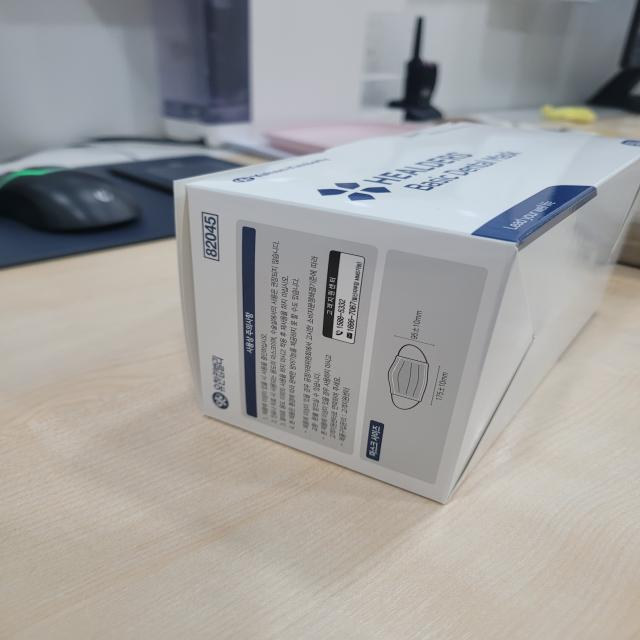mask: (166, 103, 640, 532)
